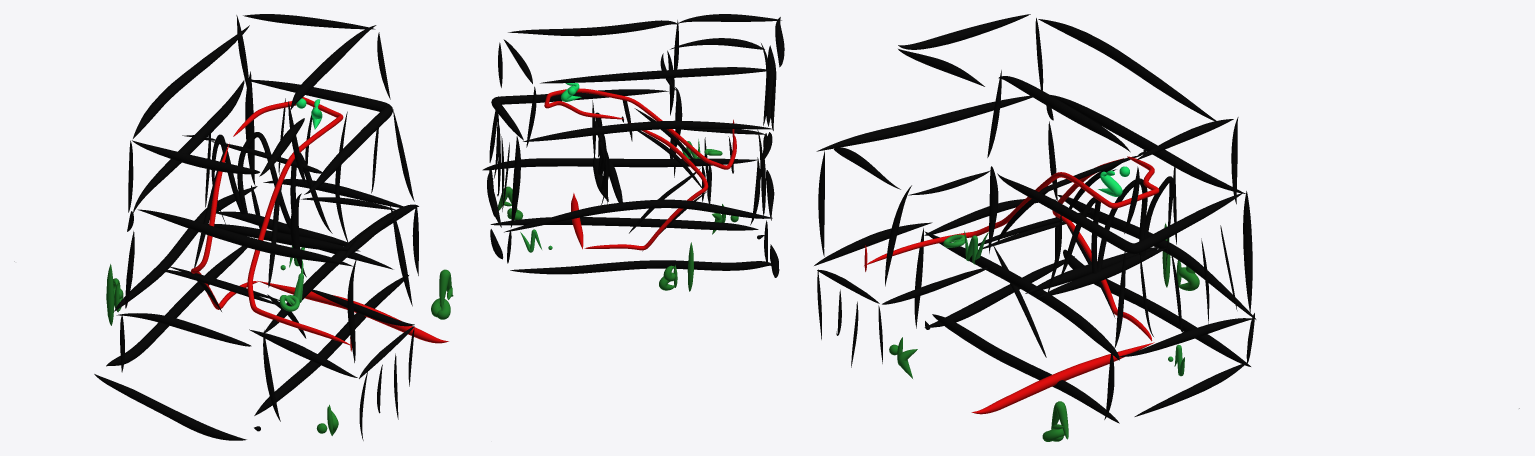
3 views of the same model, side by side, from view 1: azimuth 30°, elevation 25°; view 2: azimuth 150°, elevation 25°; view 3: azimuth 270°, elevation 25° (orthographic). The views are drawn at different scales.
Visible parts, largest first — view 1: s.0098, s.0061, s.0109, s.0058, s.0029, s.0031, s.0057, s.0032, s.0072, s.0037, s.0039, s.0074 (+21 smaller); view 2: s.0031, s.0037, s.0057, s.0029, s.0039, s.0072, s.0098, s.0061, s.0067, s.0097, s.0075, s.0060 (+8 smaller); view 3: s.0061, s.0109, s.0039, s.0029, s.0058, s.0098, s.0057, s.0072, s.0077, s.0037, s.0031, s.0067 (+13 smaller).
Part boxes in pixels (<box>): s.0098: <box>233,97,351,345</box>; s.0061: <box>249,79,392,194</box>; s.0109: <box>211,132,332,233</box>; s.0058: <box>137,209,353,266</box>; s.0029: <box>254,275,408,415</box>; s.0031: <box>106,238,254,366</box>; s.0057: <box>132,80,244,214</box>; s.0032: <box>94,374,246,440</box>; s.0072: <box>133,25,249,138</box>; s.0037: <box>114,186,257,311</box>; s.0039: <box>264,204,418,332</box>; s.0074: <box>132,140,259,174</box>; s.0031: <box>510,260,772,274</box>; s.0037: <box>504,199,772,232</box>; s.0057: <box>523,120,771,141</box>; s.0029: <box>490,217,758,230</box>; s.0039: <box>482,158,757,170</box>; s.0072: <box>540,67,772,83</box>; s.0098: <box>544,88,736,169</box>; s.0061: <box>491,89,668,140</box>; s.0067: <box>508,20,676,36</box>; s.0097: <box>584,130,708,250</box>; s.0075: <box>678,14,781,23</box>; s.0060: <box>670,38,764,49</box>; s.0061: <box>997,173,1243,254</box>; s.0109: <box>1059,176,1173,279</box>; s.0039: <box>924,231,1119,360</box>; s.0029: <box>932,314,1119,423</box>; s.0058: <box>816,95,1032,151</box>; s.0098: <box>864,156,1159,265</box>; s.0057: <box>1050,95,1245,193</box>; s.0072: <box>1038,19,1216,121</box>; s.0077: <box>971,342,1154,414</box>; s.0037: <box>1057,195,1256,319</box>; s.0031: <box>1063,249,1250,366</box>; s.0067: <box>998,76,1130,152</box>.
Bounding box in the file's own units: 101 × 171 × 93.19.
